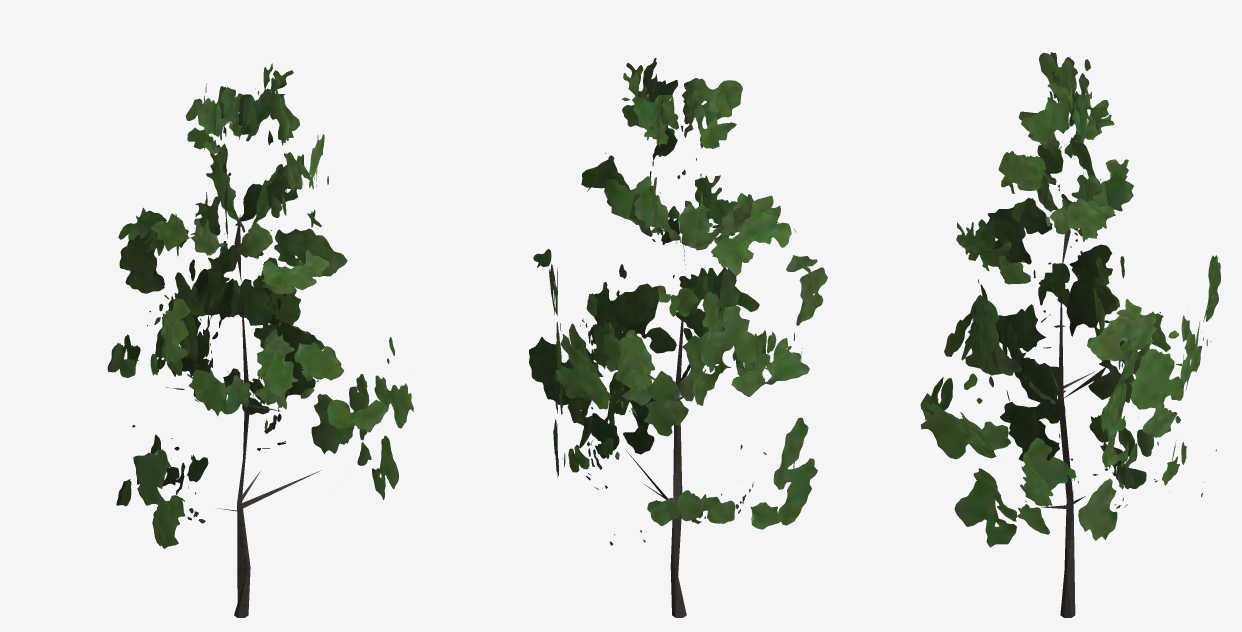
File: bush_pine_a_lod1.glb
The picture shows the model from 3 angles, left to right: view 1: azimuth 30°, elevation 25°; view 2: azimuth 150°, elevation 25°; view 3: azimuth 270°, elevation 25°; orthographic projection. The views are drawn at different scales.
Visible parts, largest first — view 1: bush_pine_a_lod1_needles, bush_pine_a_lod1_branches_pine_sapling_small_bark; view 2: bush_pine_a_lod1_needles, bush_pine_a_lod1_branches_pine_sapling_small_bark; view 3: bush_pine_a_lod1_needles, bush_pine_a_lod1_branches_pine_sapling_small_bark.
Boxes of the visible parts, <box> form: bush_pine_a_lod1_needles: <box>107,63,413,548</box>; bush_pine_a_lod1_branches_pine_sapling_small_bark: <box>218,215,321,617</box>; bush_pine_a_lod1_needles: <box>529,58,827,545</box>; bush_pine_a_lod1_branches_pine_sapling_small_bark: <box>626,213,686,617</box>; bush_pine_a_lod1_needles: <box>920,52,1220,547</box>; bush_pine_a_lod1_branches_pine_sapling_small_bark: <box>1032,210,1106,617</box>.
Size of the model in its own units: 0.8512 by 1.34 by 0.7289.
Materials: 2 (2 with a texture image).
